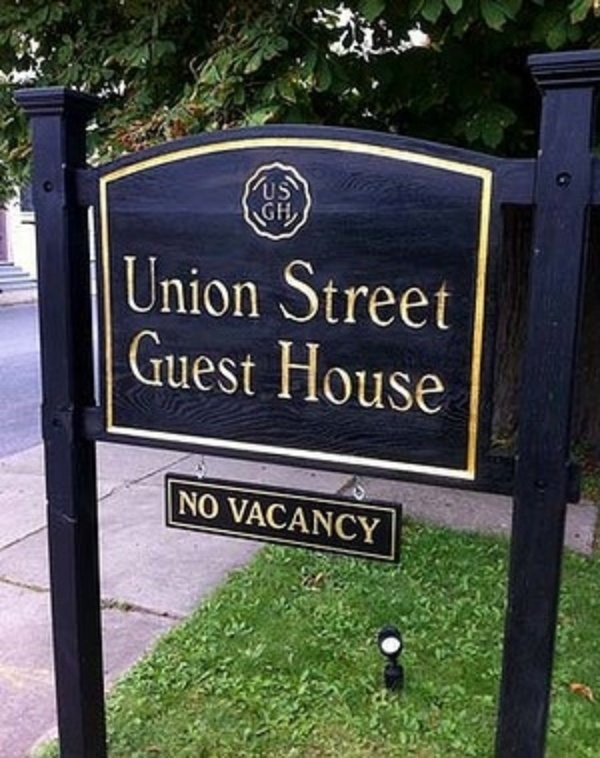text: (289, 339, 304, 417), (305, 339, 320, 417), (321, 339, 336, 417), (337, 339, 352, 417), (353, 339, 368, 417), (369, 339, 384, 417), (385, 339, 400, 417), (401, 339, 416, 417), (417, 339, 432, 417), (433, 339, 448, 417), (241, 329, 257, 397), (289, 259, 304, 331), (305, 259, 320, 331), (321, 259, 336, 331), (337, 259, 352, 331), (353, 259, 368, 331), (369, 259, 384, 331), (385, 259, 400, 331), (401, 259, 416, 331), (417, 259, 432, 331), (433, 259, 448, 331), (129, 255, 144, 323), (145, 255, 160, 323), (161, 255, 176, 323), (177, 255, 192, 323), (193, 255, 208, 323), (209, 255, 224, 323), (225, 255, 240, 323), (241, 255, 256, 323), (129, 329, 144, 397), (145, 329, 160, 397), (161, 329, 176, 397), (177, 329, 192, 397), (193, 329, 208, 397), (209, 329, 224, 397), (225, 329, 240, 397), (277, 339, 288, 417), (369, 495, 385, 545), (225, 495, 240, 545), (241, 495, 256, 545), (257, 495, 272, 545), (273, 495, 288, 545), (289, 495, 304, 545), (305, 495, 320, 545), (321, 495, 336, 545), (337, 495, 352, 545), (353, 495, 368, 545), (209, 489, 225, 525), (193, 489, 208, 525), (281, 259, 288, 331), (179, 489, 192, 525), (123, 255, 128, 323), (273, 181, 288, 201), (273, 203, 288, 223), (257, 255, 261, 323), (261, 181, 272, 201), (261, 203, 272, 223), (449, 339, 451, 417), (449, 259, 451, 331), (289, 203, 295, 223), (289, 181, 293, 201)
